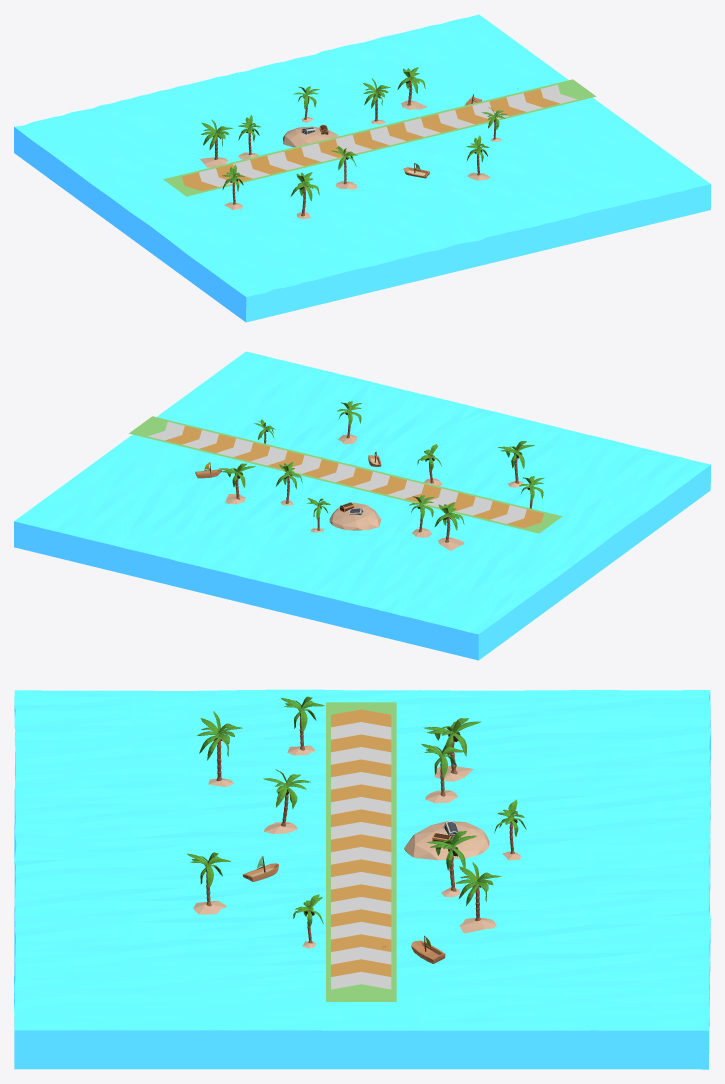
File: runnerplatform.fbx
The picture shows the model from 3 angles, top to bottom: view 1: azimuth 30°, elevation 25°; view 2: azimuth 150°, elevation 25°; view 3: azimuth 270°, elevation 25°; orthographic projection. The views are drawn at different scales.
Parts seen in each view (by area): view 1: Cube.001, Plane.004, Plane.006, Icosphere.012, Cube.014, Icosphere.009, Cylinder.091; view 2: Cube.001, Plane.004, Plane.006, Cube.014, Icosphere.012, Icosphere.009, Cylinder.091; view 3: Cube.001, Plane.004, Plane.006, Icosphere.012, Cube.014, Cylinder.091, Icosphere.009, Cylinder.011, ada.010, ada.003, ada.004, Cylinder.016.
Boxes of the visible parts, x1,y1,x2,y2 form: Cube.001: (14, 14, 710, 322); Plane.004: (182, 85, 577, 190); Plane.006: (163, 79, 596, 196); Icosphere.012: (293, 67, 427, 122); Cube.014: (283, 126, 338, 147); Icosphere.009: (200, 119, 232, 167); Cylinder.091: (290, 172, 319, 219); Cube.001: (14, 351, 710, 660); Plane.004: (148, 421, 543, 527); Plane.006: (129, 416, 562, 533); Cube.014: (329, 502, 381, 530); Icosphere.012: (219, 463, 330, 532); Icosphere.009: (434, 502, 464, 550); Cylinder.091: (498, 441, 534, 487); Cube.001: (14, 689, 710, 1069); Plane.004: (331, 709, 391, 989); Plane.006: (326, 702, 396, 1001); Icosphere.012: (455, 799, 526, 933); Cube.014: (404, 821, 489, 860); Cylinder.091: (197, 711, 242, 786); Icosphere.009: (423, 718, 481, 781); Cylinder.011: (263, 769, 310, 833); ada.010: (187, 852, 230, 914); ada.003: (421, 742, 465, 803); ada.004: (427, 831, 476, 897); Cylinder.016: (281, 696, 324, 755).
Bounding box in the file's own units: 2267 × 326 × 1965.
